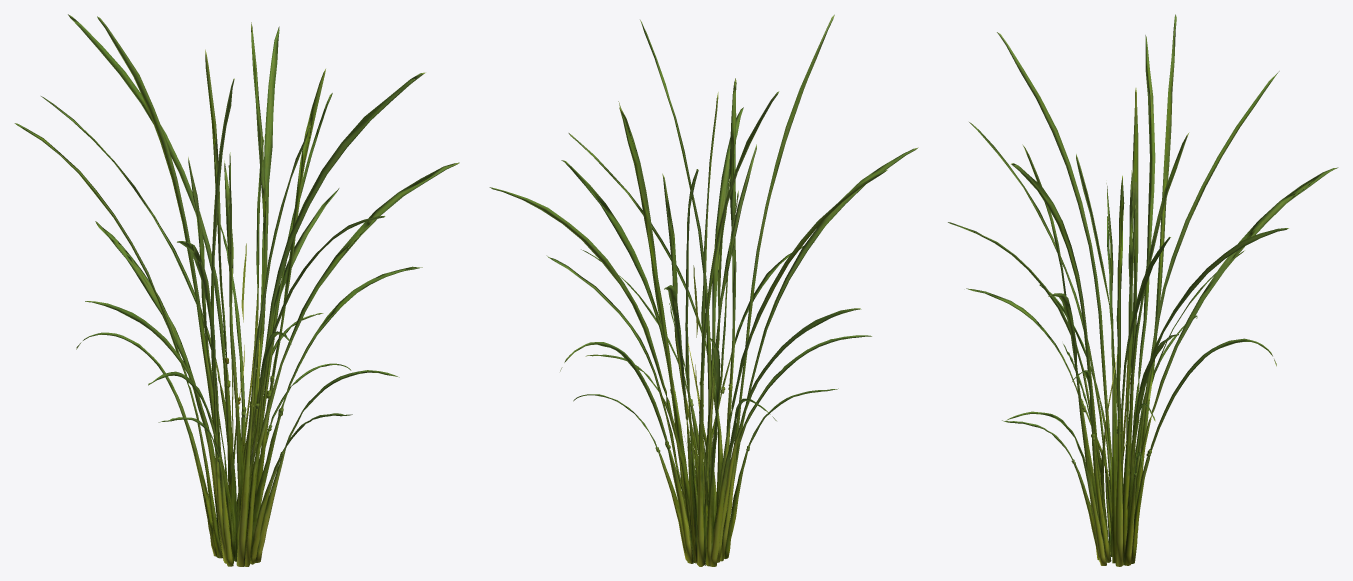
File: suitou_002.glb
3 renders of one model, left to right at view 1: azimuth 30°, elevation 25°; view 2: azimuth 150°, elevation 25°; view 3: azimuth 270°, elevation 25°, orthographic. The views are drawn at different scales.
Visible parts, largest first — view 1: tripo_node_8241294f-5ec3-4590-a6b4-5a8b7268d70b; view 2: tripo_node_8241294f-5ec3-4590-a6b4-5a8b7268d70b; view 3: tripo_node_8241294f-5ec3-4590-a6b4-5a8b7268d70b.
Part boxes in pixels (box(x1,y1,x2,y2)): tripo_node_8241294f-5ec3-4590-a6b4-5a8b7268d70b: box(14, 14, 459, 566); tripo_node_8241294f-5ec3-4590-a6b4-5a8b7268d70b: box(489, 14, 918, 566); tripo_node_8241294f-5ec3-4590-a6b4-5a8b7268d70b: box(948, 14, 1338, 566).
Bounding box in the file's own units: 0.3767 × 0.5 × 0.3571.
Materials: 1 (1 with a texture image).
